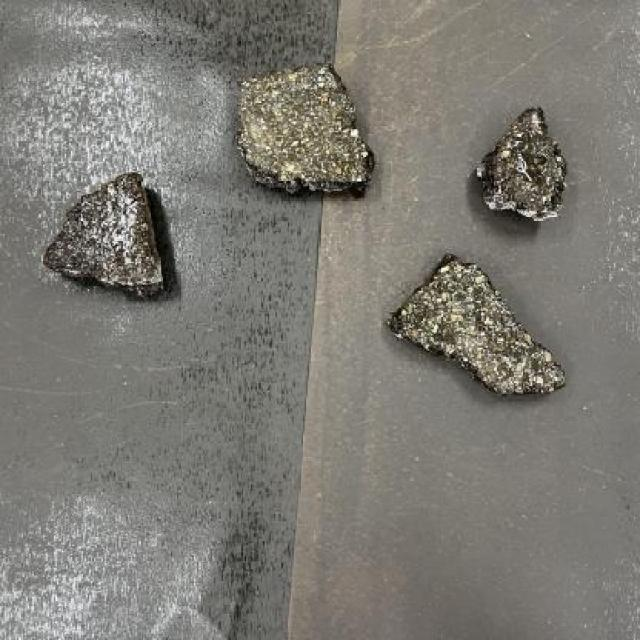Road Debris: (400, 258, 562, 394), (232, 64, 370, 192), (48, 175, 174, 294), (483, 96, 566, 235)
